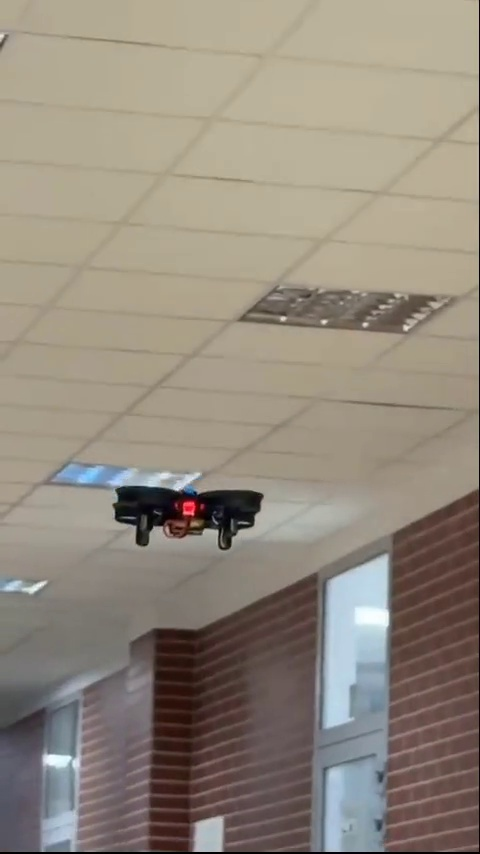drone: (116, 482, 265, 554)
